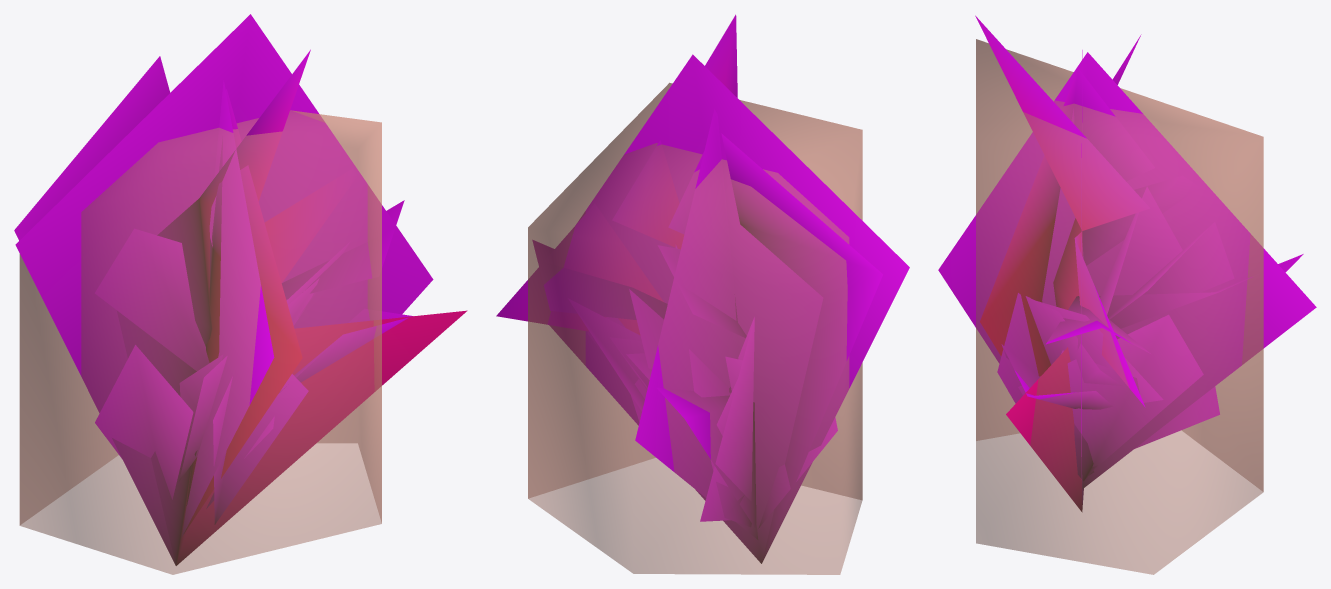
The model's file is tree_aspen_bush_a.dae.
3 renders of one model, left to right at view 1: azimuth 30°, elevation 25°; view 2: azimuth 150°, elevation 25°; view 3: azimuth 270°, elevation 25°, orthographic. The views are drawn at different scales.
Parts seen in each view (by area): view 1: Colmesh_bush01-1, Birch_Bush_01_a50, Birch_Bush_01_a150; view 2: Colmesh_bush01-1, Birch_Bush_01_a50, Birch_Bush_01_a150; view 3: Colmesh_bush01-1, Birch_Bush_01_a50, Birch_Bush_01_a150.
Boxes of the visible parts, x1,y1,x2,y2 form: Colmesh_bush01-1: [19, 110, 381, 574]; Birch_Bush_01_a50: [15, 14, 433, 564]; Birch_Bush_01_a150: [14, 49, 467, 565]; Colmesh_bush01-1: [528, 82, 862, 574]; Birch_Bush_01_a50: [532, 54, 909, 563]; Birch_Bush_01_a150: [496, 14, 882, 562]; Colmesh_bush01-1: [976, 39, 1263, 574]; Birch_Bush_01_a50: [938, 50, 1316, 502]; Birch_Bush_01_a150: [975, 15, 1303, 511].
Bounding box in the file's own units: 1.77 × 1.39 × 2.18.
